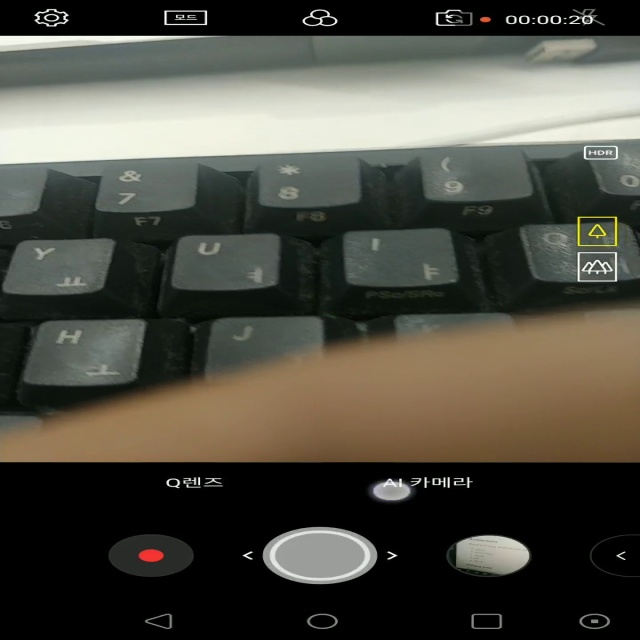Cursor: (369, 481, 414, 503)
